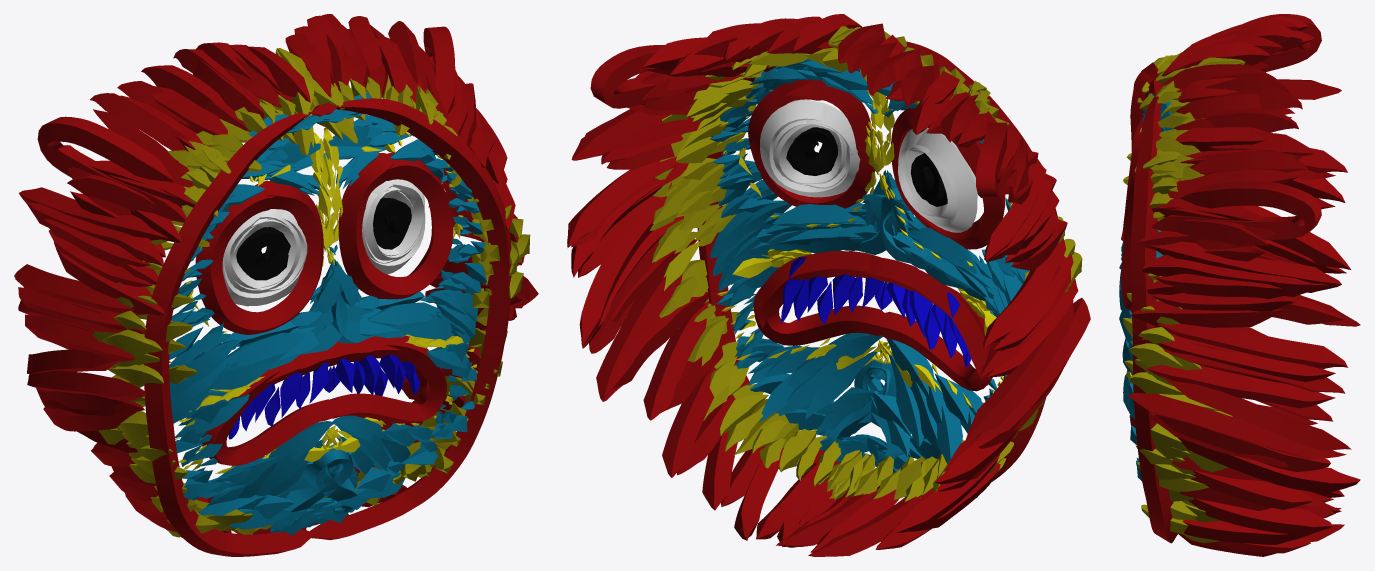
3 renders of one model, left to right at view 1: azimuth 30°, elevation 25°; view 2: azimuth 150°, elevation 25°; view 3: azimuth 270°, elevation 25°, orthographic. The views are drawn at different scales.
Parts seen in each view (by area): view 1: Untitled_0_Lofted_geo (×2); view 2: Untitled_0_Lofted_geo (×2); view 3: Untitled_0_Lofted_geo.
Boxes of the visible parts, left/top/right/bottom form: Untitled_0_Lofted_geo (×2): left=14, top=14, right=538, bottom=556; Untitled_0_Lofted_geo (×2): left=567, top=14, right=1090, bottom=556; Untitled_0_Lofted_geo: left=1119, top=14, right=1360, bottom=556.
Bounding box in the file's own units: 0.9455 × 0.9942 × 0.4576.
